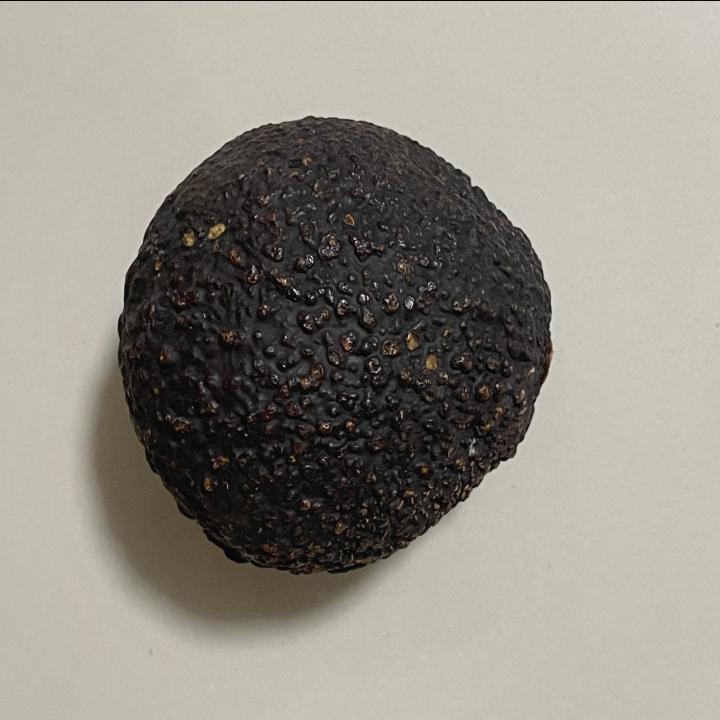Level3: (109, 101, 561, 587)
